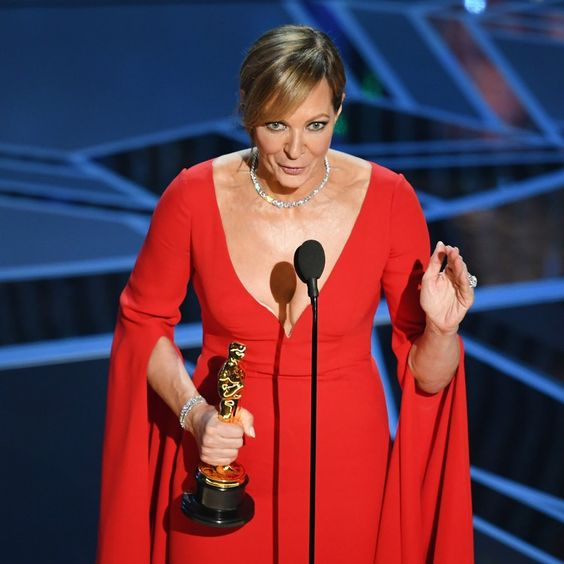hand: (190, 407, 250, 461)
